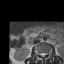CCS_normal: (42, 50, 44, 59)
LFS_normal: (46, 50, 48, 57)
LLS_normal: (44, 51, 46, 58)
RFS_normal: (38, 49, 40, 57)
RLS_normal: (40, 50, 42, 58)
